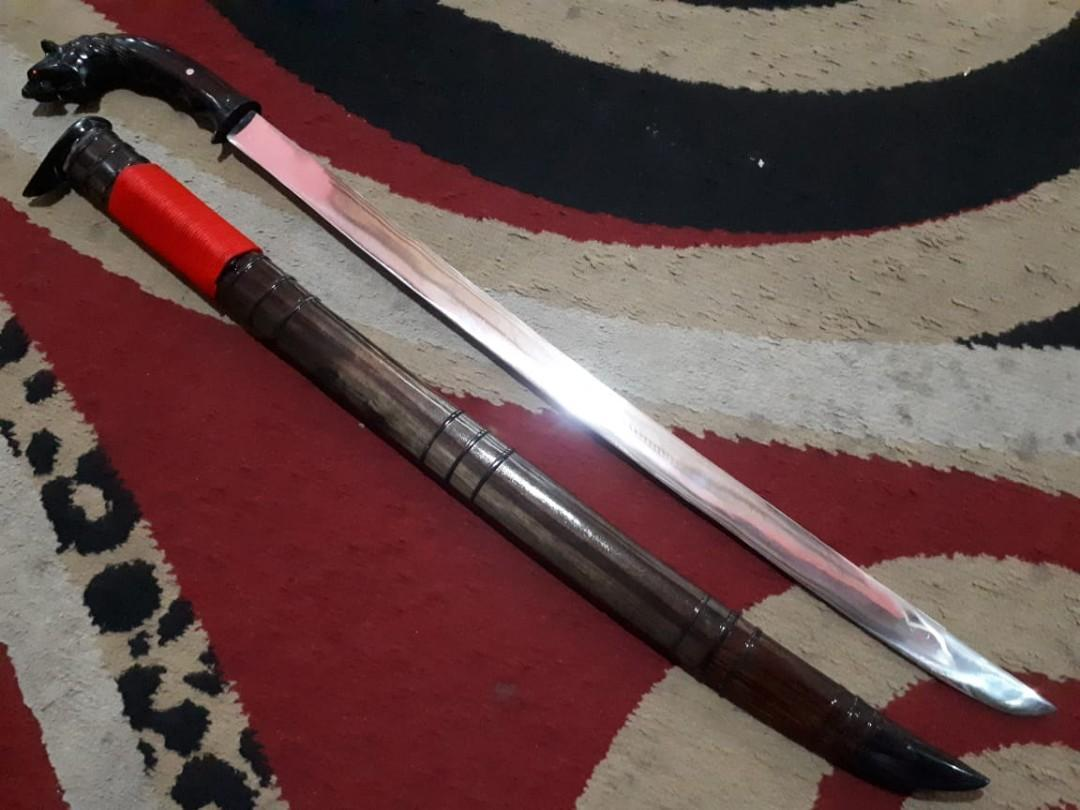espada: (23, 36, 1052, 714)
